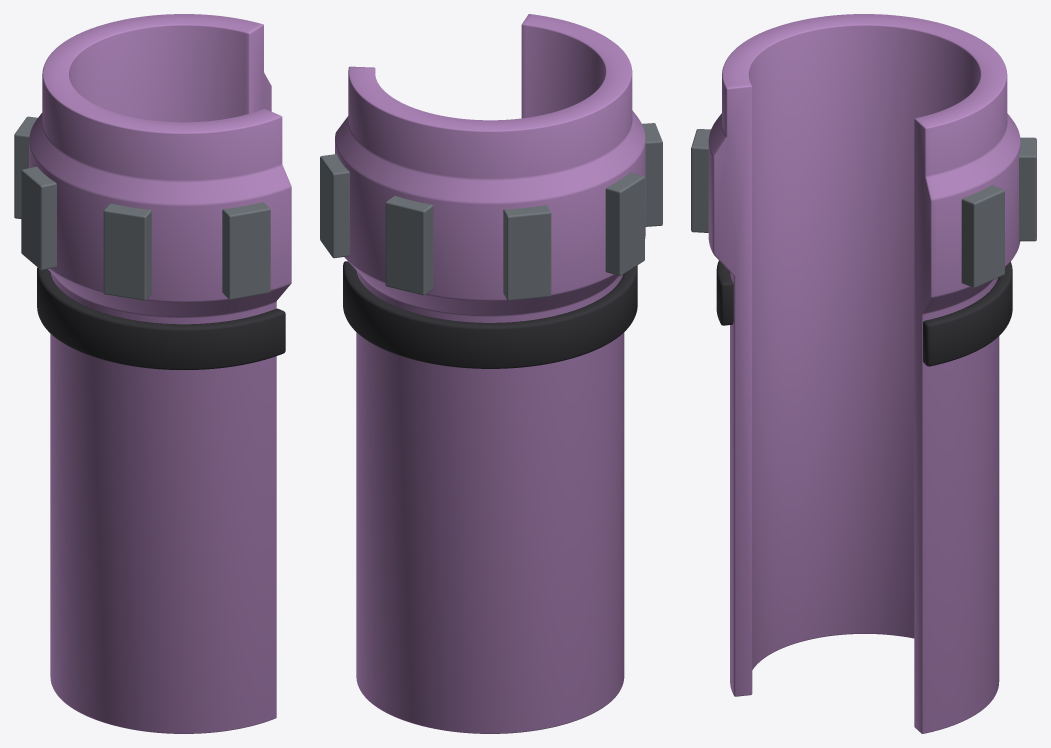
Rendered from liner.glb.
3 views of the same model, side by side, from view 1: azimuth 30°, elevation 25°; view 2: azimuth 150°, elevation 25°; view 3: azimuth 270°, elevation 25° (orthographic).
Visible parts, largest first — view 1: Liner hanger, Packoff, Slip 4, Slip 5, Slip 3, Slip 2; view 2: Liner hanger, Packoff, Slip 2, Slip 1, Slip 3, Slip 0, Slip 4; view 3: Liner hanger, Packoff, Slip 0, Slip 1, Slip 5.
Part boxes in pixels (x1,y1,x2,y2): Liner hanger: (29,14,291,733); Packoff: (37,267,285,369); Slip 4: (103,203,151,300); Slip 5: (222,202,270,299); Slip 3: (21,166,56,270); Slip 2: (14,116,37,218); Liner hanger: (335,14,645,733); Packoff: (343,261,637,368); Slip 2: (503,205,551,300); Slip 1: (385,195,433,295); Slip 3: (605,172,644,275); Slip 0: (320,154,349,258); Slip 4: (642,123,662,226); Liner hanger: (708,14,1020,733); Packoff: (716,261,1012,366); Slip 0: (961,185,1004,287); Slip 1: (1019,137,1036,241); Slip 5: (691,129,710,232).
Size of the model in its own units: 2.33 by 5 by 2.57.
